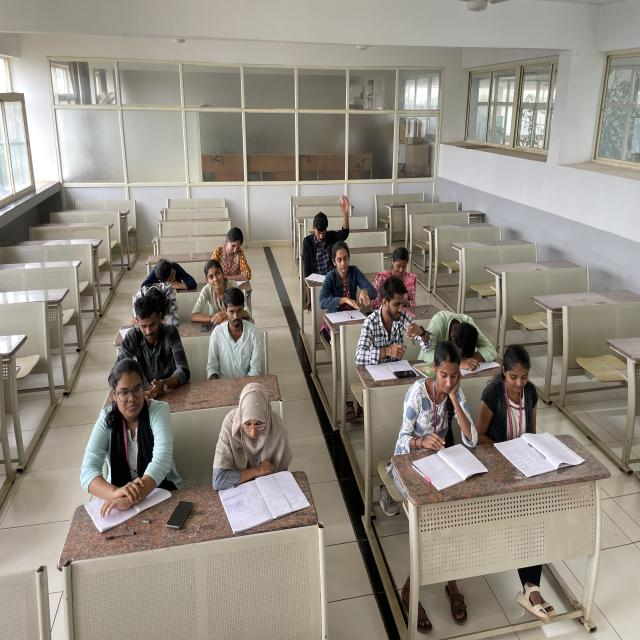Hand Rising: (290, 198, 358, 265)
Reading: (207, 390, 308, 526), (488, 350, 574, 460), (408, 349, 472, 481), (214, 229, 266, 286)
Sleeping: (427, 306, 498, 372), (126, 284, 197, 329), (133, 250, 204, 294)
Using Phone: (371, 247, 429, 303)
